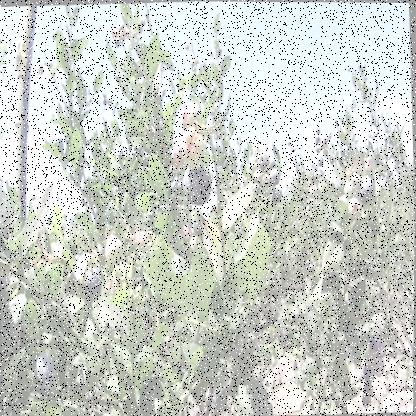intermediate: (171, 130, 207, 169), (137, 228, 149, 251)
mature: (184, 169, 213, 206), (85, 266, 104, 303), (37, 357, 58, 389), (271, 159, 283, 197), (361, 177, 375, 203), (364, 369, 376, 383), (259, 156, 269, 170)
young: (106, 235, 125, 267), (344, 179, 356, 199), (351, 198, 362, 218), (262, 175, 271, 189)
